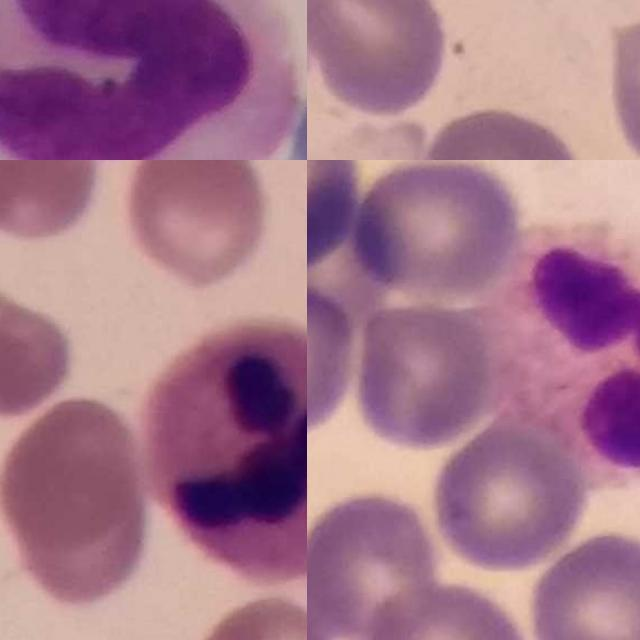Neutrophil: (0, 0, 298, 160), (140, 321, 307, 580), (481, 224, 640, 477)
